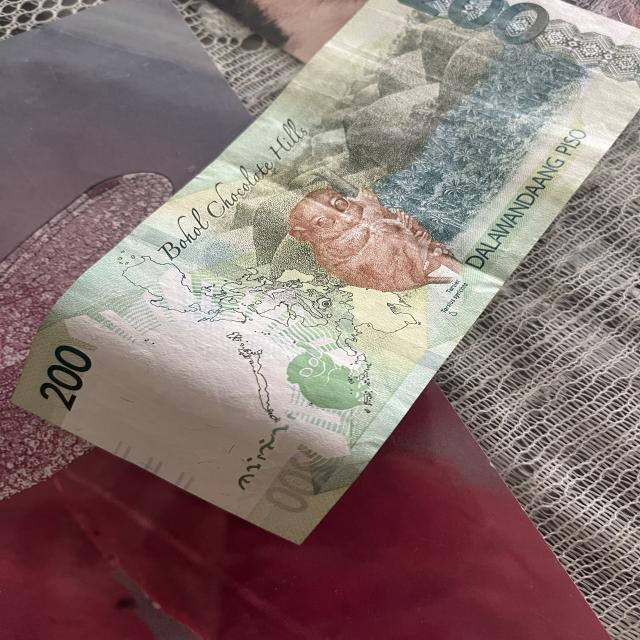200_tarsier: (252, 159, 493, 318)
200_tarsier_watermark: (287, 334, 387, 409)
